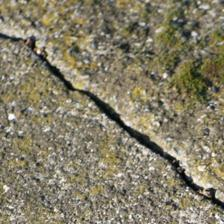Crack: (3, 31, 220, 208)
